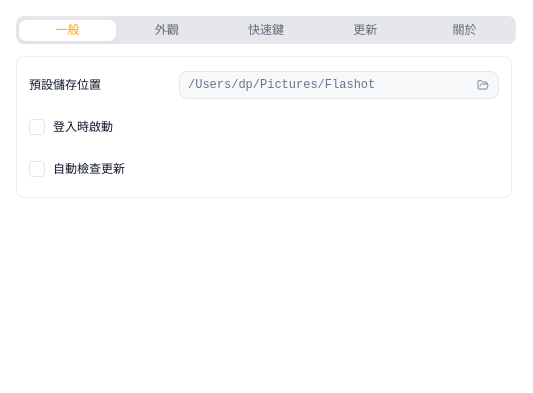
SettingsRoute › renders settings labels in Traditional Chinese when selected
The image size is (533, 393).
Check: the tab "外觀" is shown, box [117,18,216,42]
Check: the tab "一般" is shown, box [18,18,117,42]
Click the tab "快速鍵".
click(266, 30)  # box [216,18,316,42]
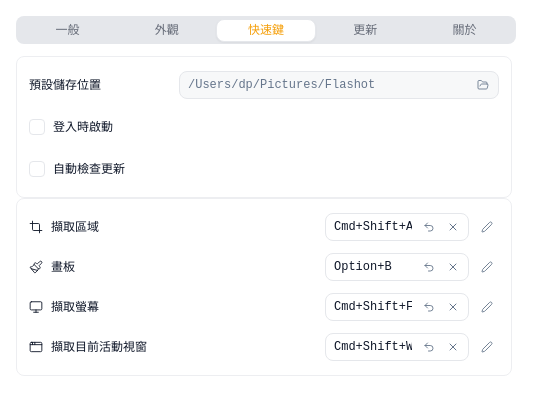
Check: the text "擷取區域" is shown, box [51,219,99,235]
Check: the text "擷取目前活動視窗" is shown, box [51,339,147,355]
Click the tab "外觀".
click(167, 30)  # box [117,18,216,42]
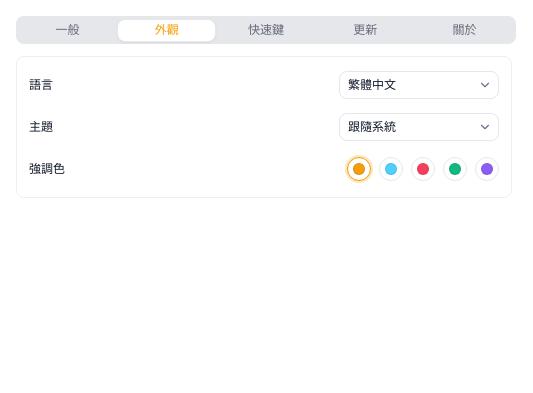
Check: the dropdown named "語言" is shown, box [339,71,499,99]
Check: the label "儲存" is gone
